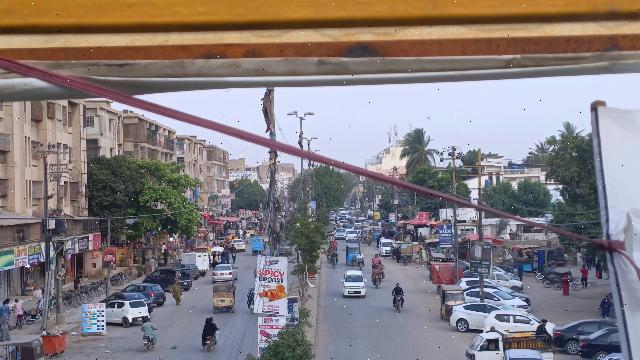Bike: (140, 335, 157, 355), (392, 292, 407, 313), (204, 335, 219, 353), (373, 272, 382, 291)
Car: (448, 298, 520, 333), (550, 319, 618, 353), (483, 307, 555, 337), (105, 298, 150, 326), (576, 325, 617, 355), (122, 282, 167, 306), (339, 269, 369, 300), (210, 262, 239, 284), (502, 348, 544, 360)
Person: (169, 278, 185, 307), (535, 316, 551, 338), (140, 316, 155, 338), (201, 315, 214, 338), (391, 280, 405, 298), (370, 263, 383, 277), (209, 315, 218, 333)
Rickshaw: (436, 282, 466, 322), (209, 281, 238, 314), (344, 243, 360, 267)
Suzuki: (459, 319, 556, 360)
Truck: (176, 251, 210, 276)
